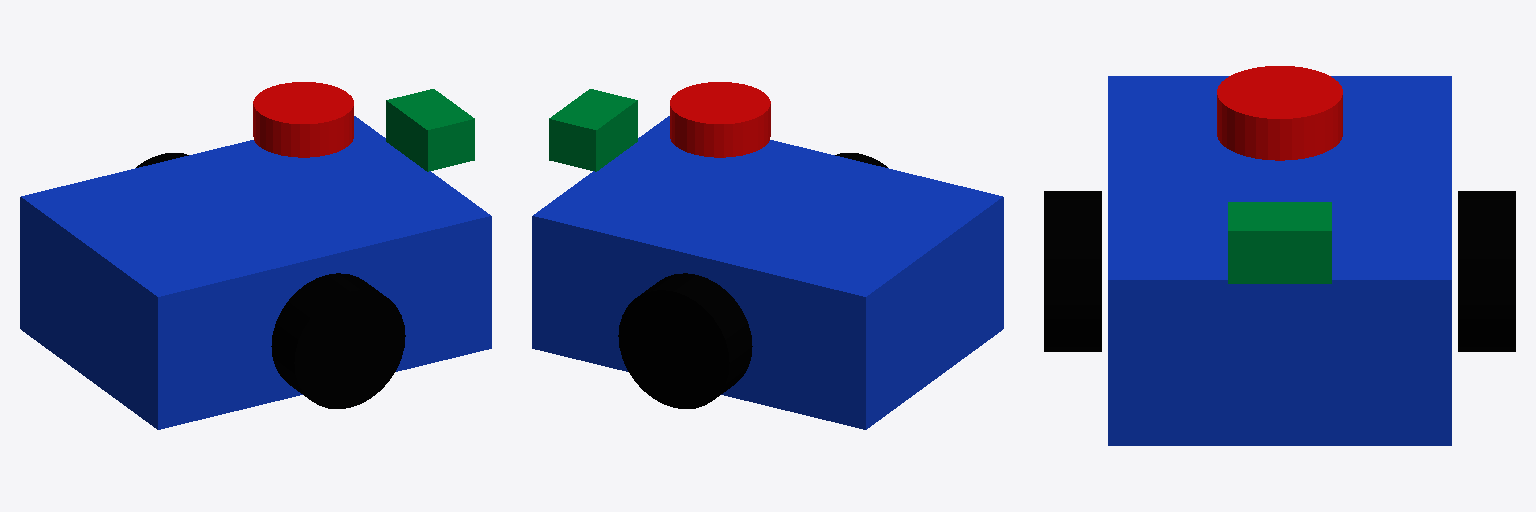
robot.urdf — diffbot:
<?xml version="1.0"?>
<!--
  这是一个最小差速小车 URDF。

  坐标约定：
  - x：机器人前方
  - y：机器人左侧
  - z：机器人上方

  URDF 中最重要的两类元素：
  - link：机器人上的一个刚体/坐标系，例如底盘、轮子、摄像头、雷达。
  - joint：两个 link 之间的连接关系，也就是 TF 树中的父子关系。
-->
<robot name="diffbot">
  <!--
    robot.name：机器人模型名称。
    RViz 和 robot_state_publisher 会把这个文件当作一台名为 diffbot 的机器人描述。
  -->

  <!--
    base_link：机器人底盘主坐标系。
    后续控制、导航、传感器安装通常都以 base_link 为核心参考坐标系。
  -->
  <link name="base_link">
    <!--
      visual：只影响 RViz/Gazebo 里“看起来是什么样”。
      它不决定 TF，也不决定碰撞范围。
    -->
    <visual>
      <!--
        origin：这个 visual 几何体相对 base_link 原点的位置和姿态。
        xyz 单位是米，格式是 x y z。
        rpy 单位是弧度，格式是 roll pitch yaw。

        这里 z=0.08，因为底盘盒子的高度是 0.16 米。
        把盒子中心抬高 0.08 米后，盒子底面刚好在 z=0 附近。
      -->
      <origin xyz="0 0 0.08" rpy="0 0 0"/>

      <!-- geometry：定义 visual 的几何形状。 -->
      <geometry>
        <!--
          box.size：长方体尺寸，单位是米，格式是 x长度 y宽度 z高度。
          0.42 0.30 0.16 表示车体前后长 0.42 米、左右宽 0.30 米、高 0.16 米。
        -->
        <box size="0.42 0.30 0.16"/>
      </geometry>

      <!-- material：定义显示颜色或材质名称。 -->
      <material name="body_blue">
        <!--
          color.rgba：红、绿、蓝、透明度，范围 0.0 到 1.0。
          a=1.0 表示不透明。
        -->
        <color rgba="0.10 0.28 0.80 1.0"/>
      </material>
    </visual>

    <!--
      collision：碰撞几何体。
      RViz 默认主要看 visual；Gazebo/Nav2 这类仿真或规划工具会更关心 collision。
      本课让 collision 和 visual 尺寸一致，便于理解。
    -->
    <collision>
      <!-- collision 的 origin 含义和 visual 的 origin 一样。 -->
      <origin xyz="0 0 0.08" rpy="0 0 0"/>
      <geometry>
        <box size="0.42 0.30 0.16"/>
      </geometry>
    </collision>

    <!--
      inertial：质量和转动惯量。
      RViz 显示模型时基本不使用它；Gazebo 物理仿真会使用。
    -->
    <inertial>
      <!-- inertial.origin：质心相对 base_link 原点的位置和姿态。 -->
      <origin xyz="0 0 0.08" rpy="0 0 0"/>

      <!-- mass.value：质量，单位是千克。 -->
      <mass value="4.0"/>

      <!--
        inertia：惯性矩阵的 6 个独立参数。
        ixx/iyy/izz 是绕 x/y/z 轴的转动惯量。
        ixy/ixz/iyz 是惯性积；简单对称模型通常先写 0。
        本课数值只是教学用的近似值。
      -->
      <inertia ixx="0.04" ixy="0.0" ixz="0.0" iyy="0.08" iyz="0.0" izz="0.10"/>
    </inertial>
  </link>

  <!-- left_wheel_link：左轮 link。 -->
  <link name="left_wheel_link">
    <visual>
      <!--
        轮子用 cylinder 表示。
        URDF 的 cylinder 默认沿 z 轴延伸；这里 rpy 绕 x 轴转 1.5708 弧度约等于 90 度，
        让圆柱轴线转到 y 方向，视觉上像装在车体左右两侧的轮子。
      -->
      <origin xyz="0 0 0" rpy="1.5708 0 0"/>
      <geometry>
        <!--
          cylinder.radius：圆柱半径，单位米。
          cylinder.length：圆柱长度，单位米。
          对轮子来说，radius 是轮子半径，length 是轮子厚度。
        -->
        <cylinder radius="0.07" length="0.05"/>
      </geometry>
      <material name="wheel_dark">
        <color rgba="0.02 0.02 0.02 1.0"/>
      </material>
    </visual>
    <collision>
      <origin xyz="0 0 0" rpy="1.5708 0 0"/>
      <geometry>
        <cylinder radius="0.07" length="0.05"/>
      </geometry>
    </collision>
    <inertial>
      <mass value="0.35"/>
      <inertia ixx="0.001" ixy="0.0" ixz="0.0" iyy="0.001" iyz="0.0" izz="0.001"/>
    </inertial>
  </link>

  <!--
    left_wheel_joint：连接 base_link 和 left_wheel_link。

    joint.name：关节名称。
    joint.type：
    - fixed 表示父子 link 固定连接，不需要 /joint_states。
    - continuous 表示可以无限旋转，后续真实轮子会更适合用 continuous。

    本课先用 fixed，是为了不依赖 joint_state_publisher，先专注 URDF 到 TF 的关系。
  -->
  <joint name="left_wheel_joint" type="fixed">
    <!-- parent.link：父 link，也就是 TF 父坐标系。 -->
    <parent link="base_link"/>

    <!-- child.link：子 link，也就是 TF 子坐标系。 -->
    <child link="left_wheel_link"/>

    <!--
      joint.origin：子 link 原点相对父 link 原点的位置和姿态。
      xyz="0 0.18 0.07" 表示左轮在 base_link 左侧 0.18 米、上方 0.07 米。
    -->
    <origin xyz="0 0.18 0.07" rpy="0 0 0"/>

    <!--
      axis：关节运动轴。
      fixed joint 中不会实际运动；这里保留 axis 是为了说明轮子未来旋转轴会沿 y 方向。
    -->
    <axis xyz="0 1 0"/>
  </joint>

  <!-- right_wheel_link：右轮 link，形状和左轮一致。 -->
  <link name="right_wheel_link">
    <visual>
      <origin xyz="0 0 0" rpy="1.5708 0 0"/>
      <geometry>
        <cylinder radius="0.07" length="0.05"/>
      </geometry>
      <!-- 只写 material name 时，会复用前面定义过的 wheel_dark 材质。 -->
      <material name="wheel_dark"/>
    </visual>
    <collision>
      <origin xyz="0 0 0" rpy="1.5708 0 0"/>
      <geometry>
        <cylinder radius="0.07" length="0.05"/>
      </geometry>
    </collision>
    <inertial>
      <mass value="0.35"/>
      <inertia ixx="0.001" ixy="0.0" ixz="0.0" iyy="0.001" iyz="0.0" izz="0.001"/>
    </inertial>
  </link>

  <!-- right_wheel_joint：右轮相对 base_link 的固定安装关系。 -->
  <joint name="right_wheel_joint" type="fixed">
    <parent link="base_link"/>
    <child link="right_wheel_link"/>
    <!-- y=-0.18 表示右轮在 base_link 右侧 0.18 米。 -->
    <origin xyz="0 -0.18 0.07" rpy="0 0 0"/>
    <axis xyz="0 1 0"/>
  </joint>

  <!-- camera_link：摄像头硬件本体 frame。绿色盒子表示摄像头外壳。 -->
  <link name="camera_link">
    <visual>
      <!--
        这里 visual.origin 是 0 0 0，所以绿色盒子的中心就是 camera_link 原点。
      -->
      <origin xyz="0 0 0" rpy="0 0 0"/>
      <geometry>
        <!-- 摄像头盒子尺寸：前后 0.06 米、左右 0.09 米、高 0.05 米。 -->
        <box size="0.06 0.09 0.05"/>
      </geometry>
      <material name="camera_green">
        <color rgba="0.00 0.55 0.25 1.0"/>
      </material>
    </visual>
  </link>

  <!-- camera_joint：摄像头相对底盘的固定安装关系。 -->
  <joint name="camera_joint" type="fixed">
    <parent link="base_link"/>
    <child link="camera_link"/>
    <!--
      摄像头原点在 base_link 前方 0.22 米、上方 0.20 米。
      rpy=0 0 0 表示 camera_link 的 x/y/z 轴方向暂时和 base_link 一致。
    -->
    <origin xyz="0.22 0 0.20" rpy="0 0 0"/>
  </joint>

  <!--
    camera_optical_frame：相机光学坐标系。
    它没有 visual，因为它不是额外的实体，只是图像算法常用的一套坐标轴。
  -->
  <link name="camera_optical_frame"/>

  <!--
    camera_optical_joint：camera_link 到 camera_optical_frame 的固定旋转关系。

    xyz=0 0 0 表示两个 frame 原点重合。
    rpy="-1.5708 0 -1.5708" 把普通机器人坐标系转换成相机光学坐标系：
    - optical z 轴朝镜头前方
    - optical x 轴朝图像右方
    - optical y 轴朝图像下方
  -->
  <joint name="camera_optical_joint" type="fixed">
    <parent link="camera_link"/>
    <child link="camera_optical_frame"/>
    <origin xyz="0 0 0" rpy="-1.5708 0 -1.5708"/>
  </joint>

  <!-- laser_link：雷达 frame。红色圆柱表示雷达外形。 -->
  <link name="laser_link">
    <visual>
      <!-- visual 原点为 0，表示红色圆柱中心就是 laser_link 原点。 -->
      <origin xyz="0 0 0" rpy="0 0 0"/>
      <geometry>
        <!-- 雷达圆柱：半径 0.055 米，高度 0.04 米。 -->
        <cylinder radius="0.055" length="0.04"/>
      </geometry>
      <material name="laser_red">
        <color rgba="0.85 0.05 0.05 1.0"/>
      </material>
    </visual>
  </link>

  <!-- laser_joint：雷达相对底盘的固定安装关系。 -->
  <joint name="laser_joint" type="fixed">
    <parent link="base_link"/>
    <child link="laser_link"/>
    <!--
      雷达原点在 base_link 前方 0.06 米、上方 0.25 米。
      这就是 RViz 中红色圆柱出现在车体上方偏前位置的原因。
    -->
    <origin xyz="0.06 0 0.25" rpy="0 0 0"/>
  </joint>
</robot>

--- Render facts (derived) ---
The picture shows the robot from 3 angles, left to right: view 1: azimuth 30°, elevation 25°; view 2: azimuth 150°, elevation 25°; view 3: azimuth 270°, elevation 25°; orthographic projection.
Model diffbot with 6 links and 5 joints (5 fixed), rooted at base_link, posed every joint at zero.
Visible links, largest first — view 1: base_link, right_wheel_link, laser_link, camera_link; view 2: base_link, left_wheel_link, laser_link, camera_link; view 3: base_link, laser_link, left_wheel_link, right_wheel_link, camera_link.
Boxes of the visible links, x1,y1,x2,y2 form: base_link: (20,116,491,429); right_wheel_link: (271,273,405,408); laser_link: (253,82,353,157); camera_link: (386,89,474,171); base_link: (532,116,1003,429); left_wheel_link: (618,273,752,408); laser_link: (670,82,770,157); camera_link: (549,89,637,171); base_link: (1108,76,1451,445); laser_link: (1217,66,1342,160); left_wheel_link: (1458,191,1515,351); right_wheel_link: (1044,191,1101,351); camera_link: (1228,202,1331,283).
Bounding box of the posed robot: 0.46 × 0.41 × 0.27 m (x, y, z).
Geometry: primitives only (box / cylinder / sphere), no mesh files.
